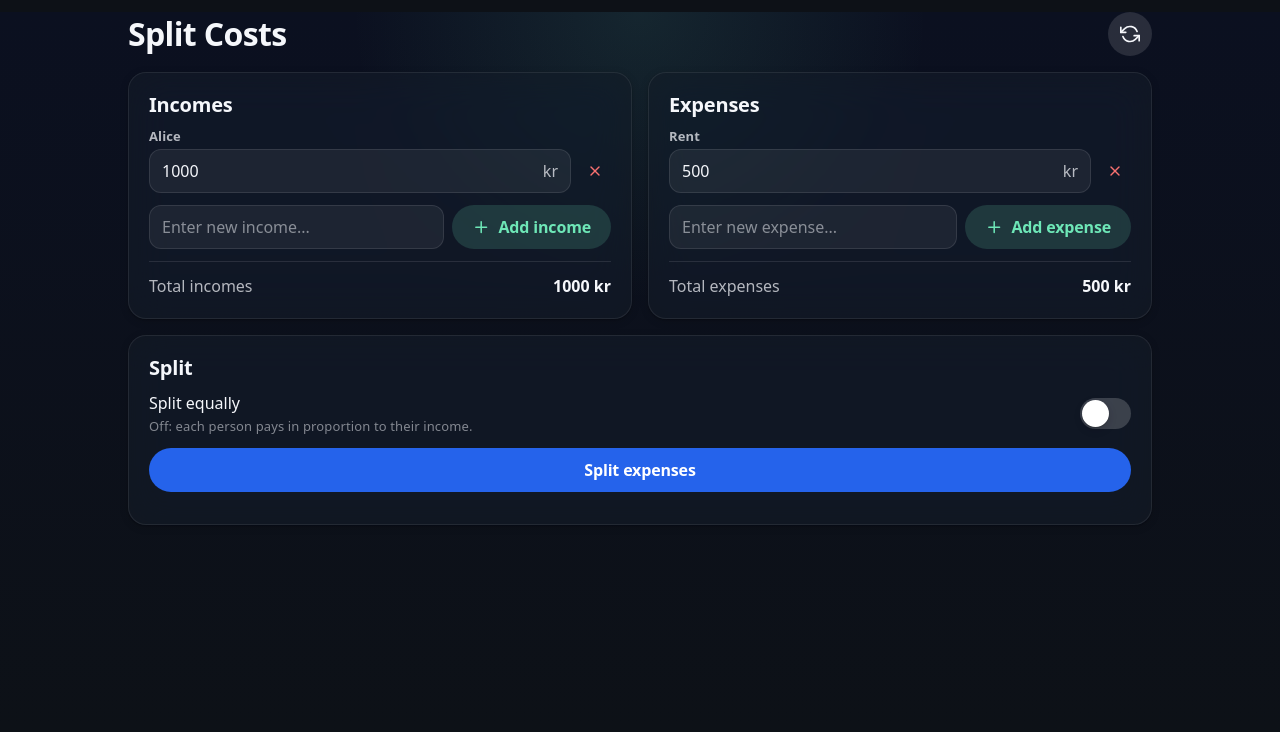
Test: CostCalculator › anonymous, localStorage only › removes income and expense rows
The width and height of the screenshot is (1280, 732).
Click the button named "Remove income Alice" at coordinates (595, 171), box [579, 155, 611, 187]
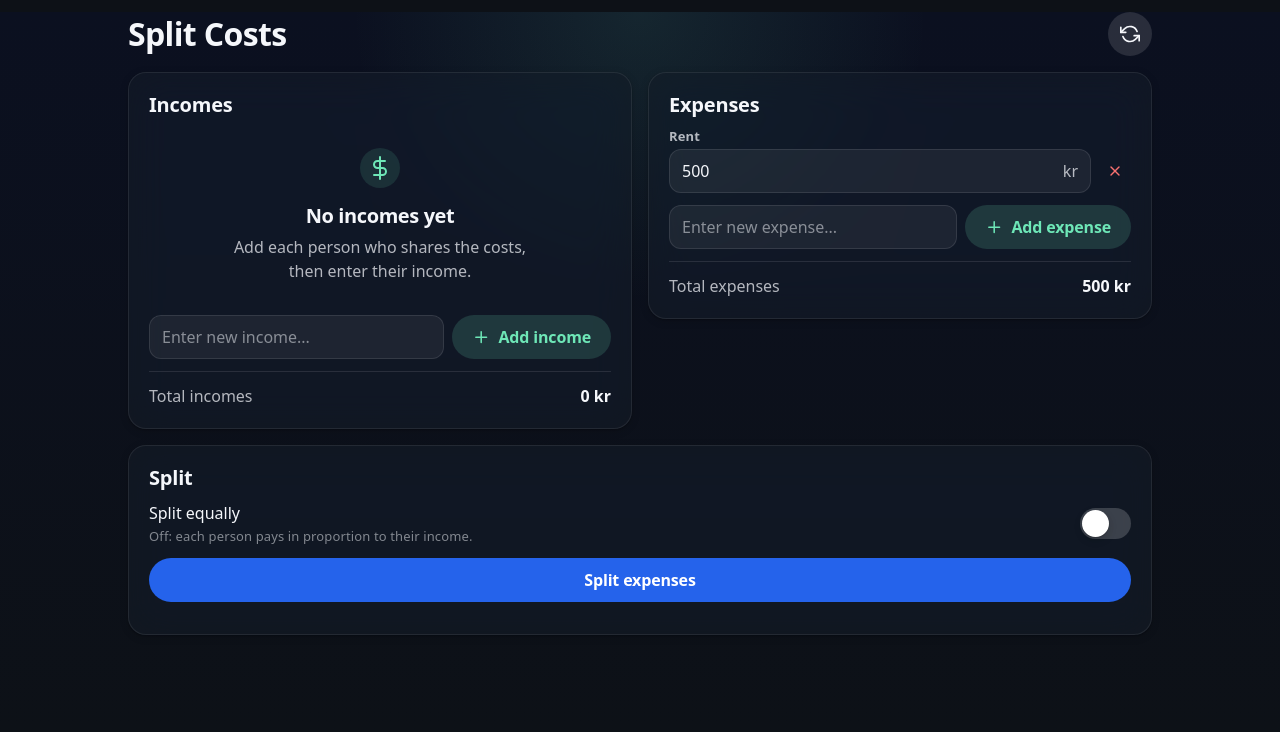
Click the button named "Remove expense Rent" at coordinates (1115, 171), box [1099, 155, 1131, 187]
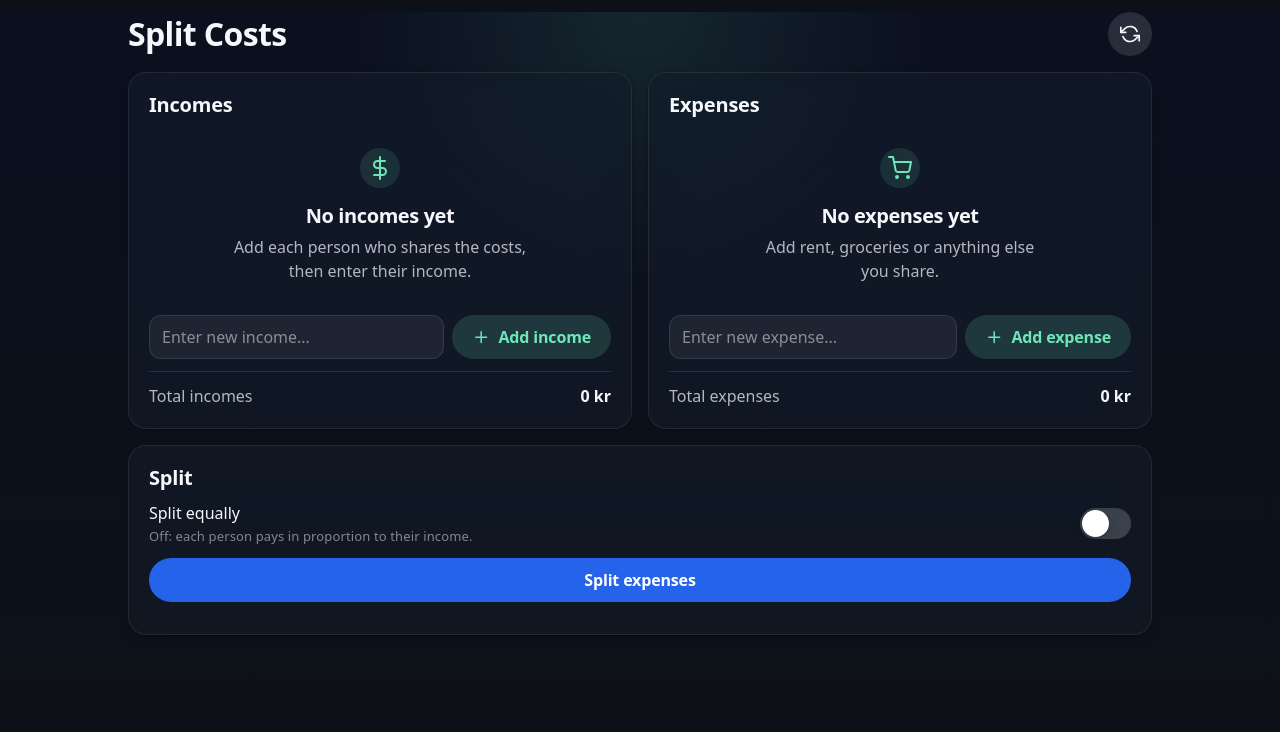
expect the button labelled "Income for Alice" is not shown: met
expect the button labelled "Amount for Rent" is gone: met
